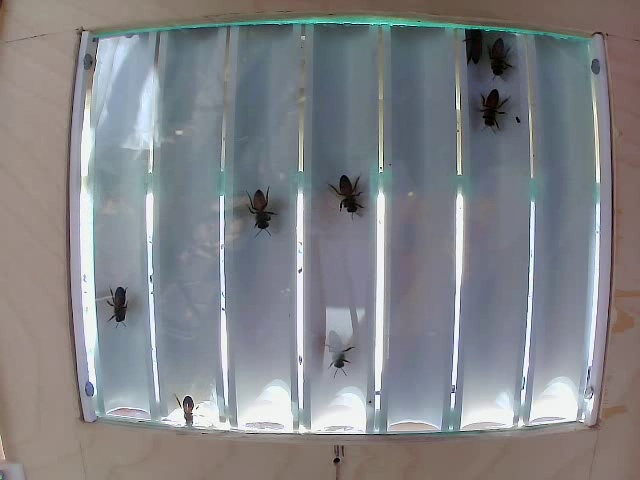bee: (90, 278, 150, 325), (327, 169, 370, 226), (241, 178, 279, 238), (483, 82, 515, 130), (486, 38, 515, 83)
